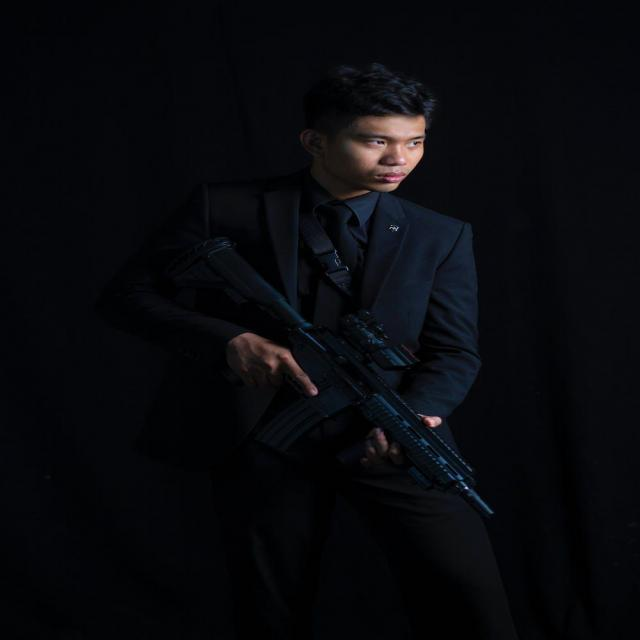weapon: (200, 235, 498, 519)
